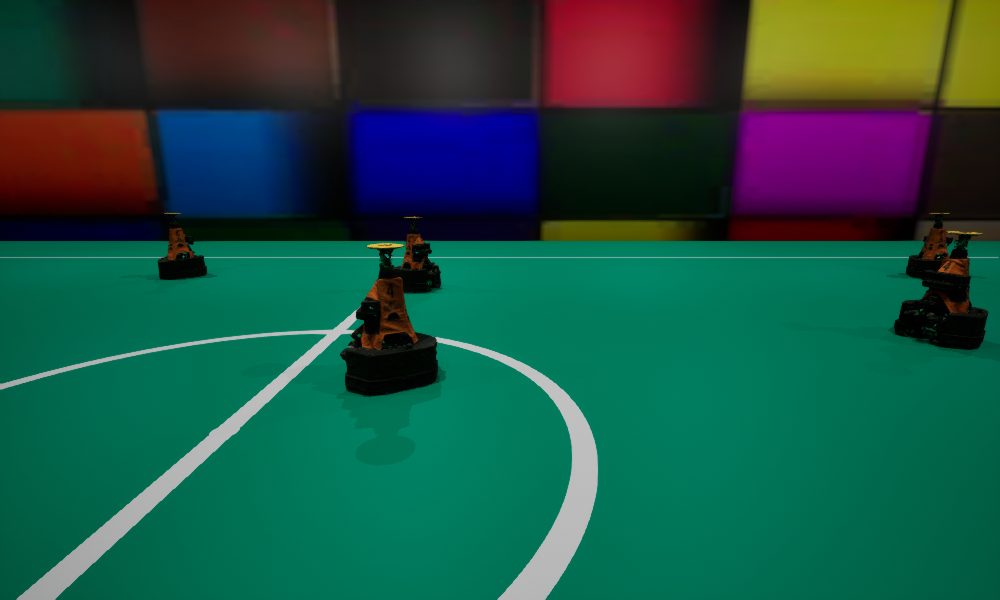0 orange robot TechUnited: (340, 243, 437, 395), (894, 231, 988, 348), (393, 216, 440, 292), (157, 213, 206, 279), (906, 213, 952, 278)
